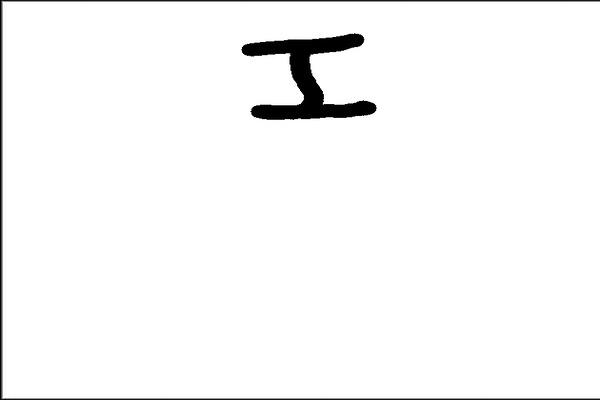i: (232, 24, 384, 126)
